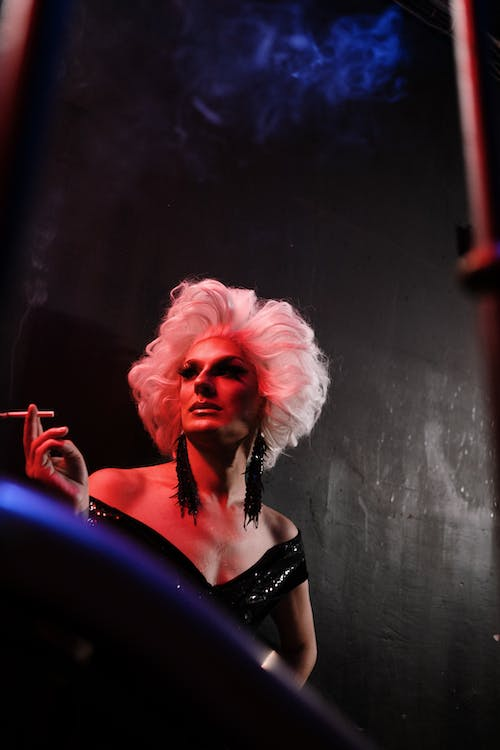cigarette: (0, 405, 57, 421)
